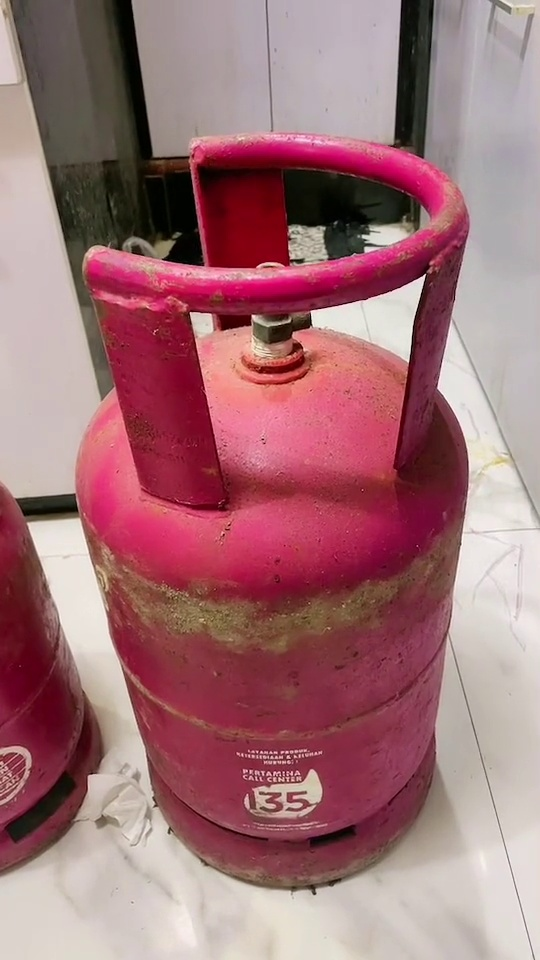bright_gas: (75, 131, 469, 884), (1, 477, 106, 881)
